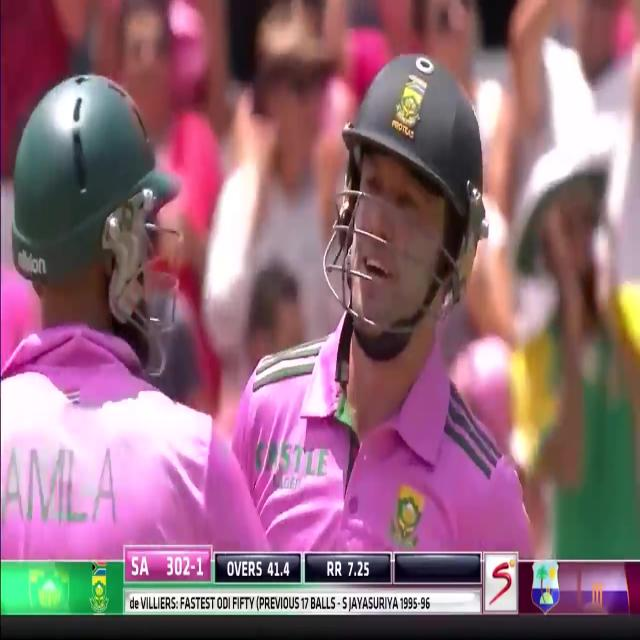Ball: (204, 55, 541, 555), (1, 65, 246, 559)
